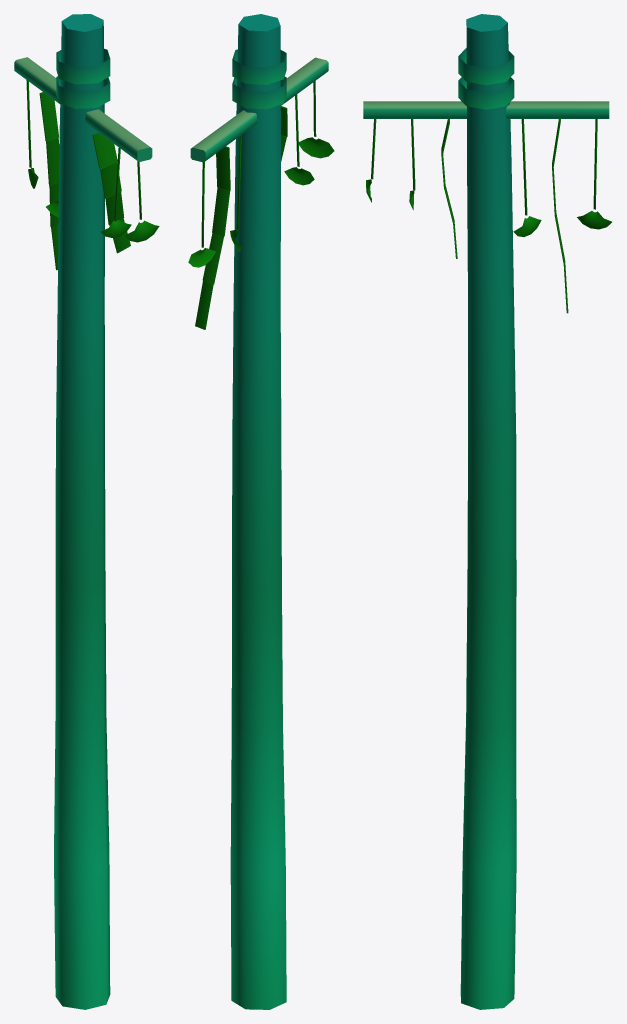
File: pilgrim_marker_post.glb
3 views of the same model, side by side, from view 1: azimuth 30°, elevation 25°; view 2: azimuth 150°, elevation 25°; view 3: azimuth 270°, elevation 25° (orthographic).
Visible parts, largest first — view 1: pilgrim_marker_post; view 2: pilgrim_marker_post; view 3: pilgrim_marker_post.
Part boxes in pixels (box(x1,y1,x2,y2)): pilgrim_marker_post: box(14, 14, 159, 1009); pilgrim_marker_post: box(188, 14, 334, 1009); pilgrim_marker_post: box(363, 14, 611, 1009).
Size of what is drawn, in the model's own units: 0.171 by 2.8 by 0.6489.
